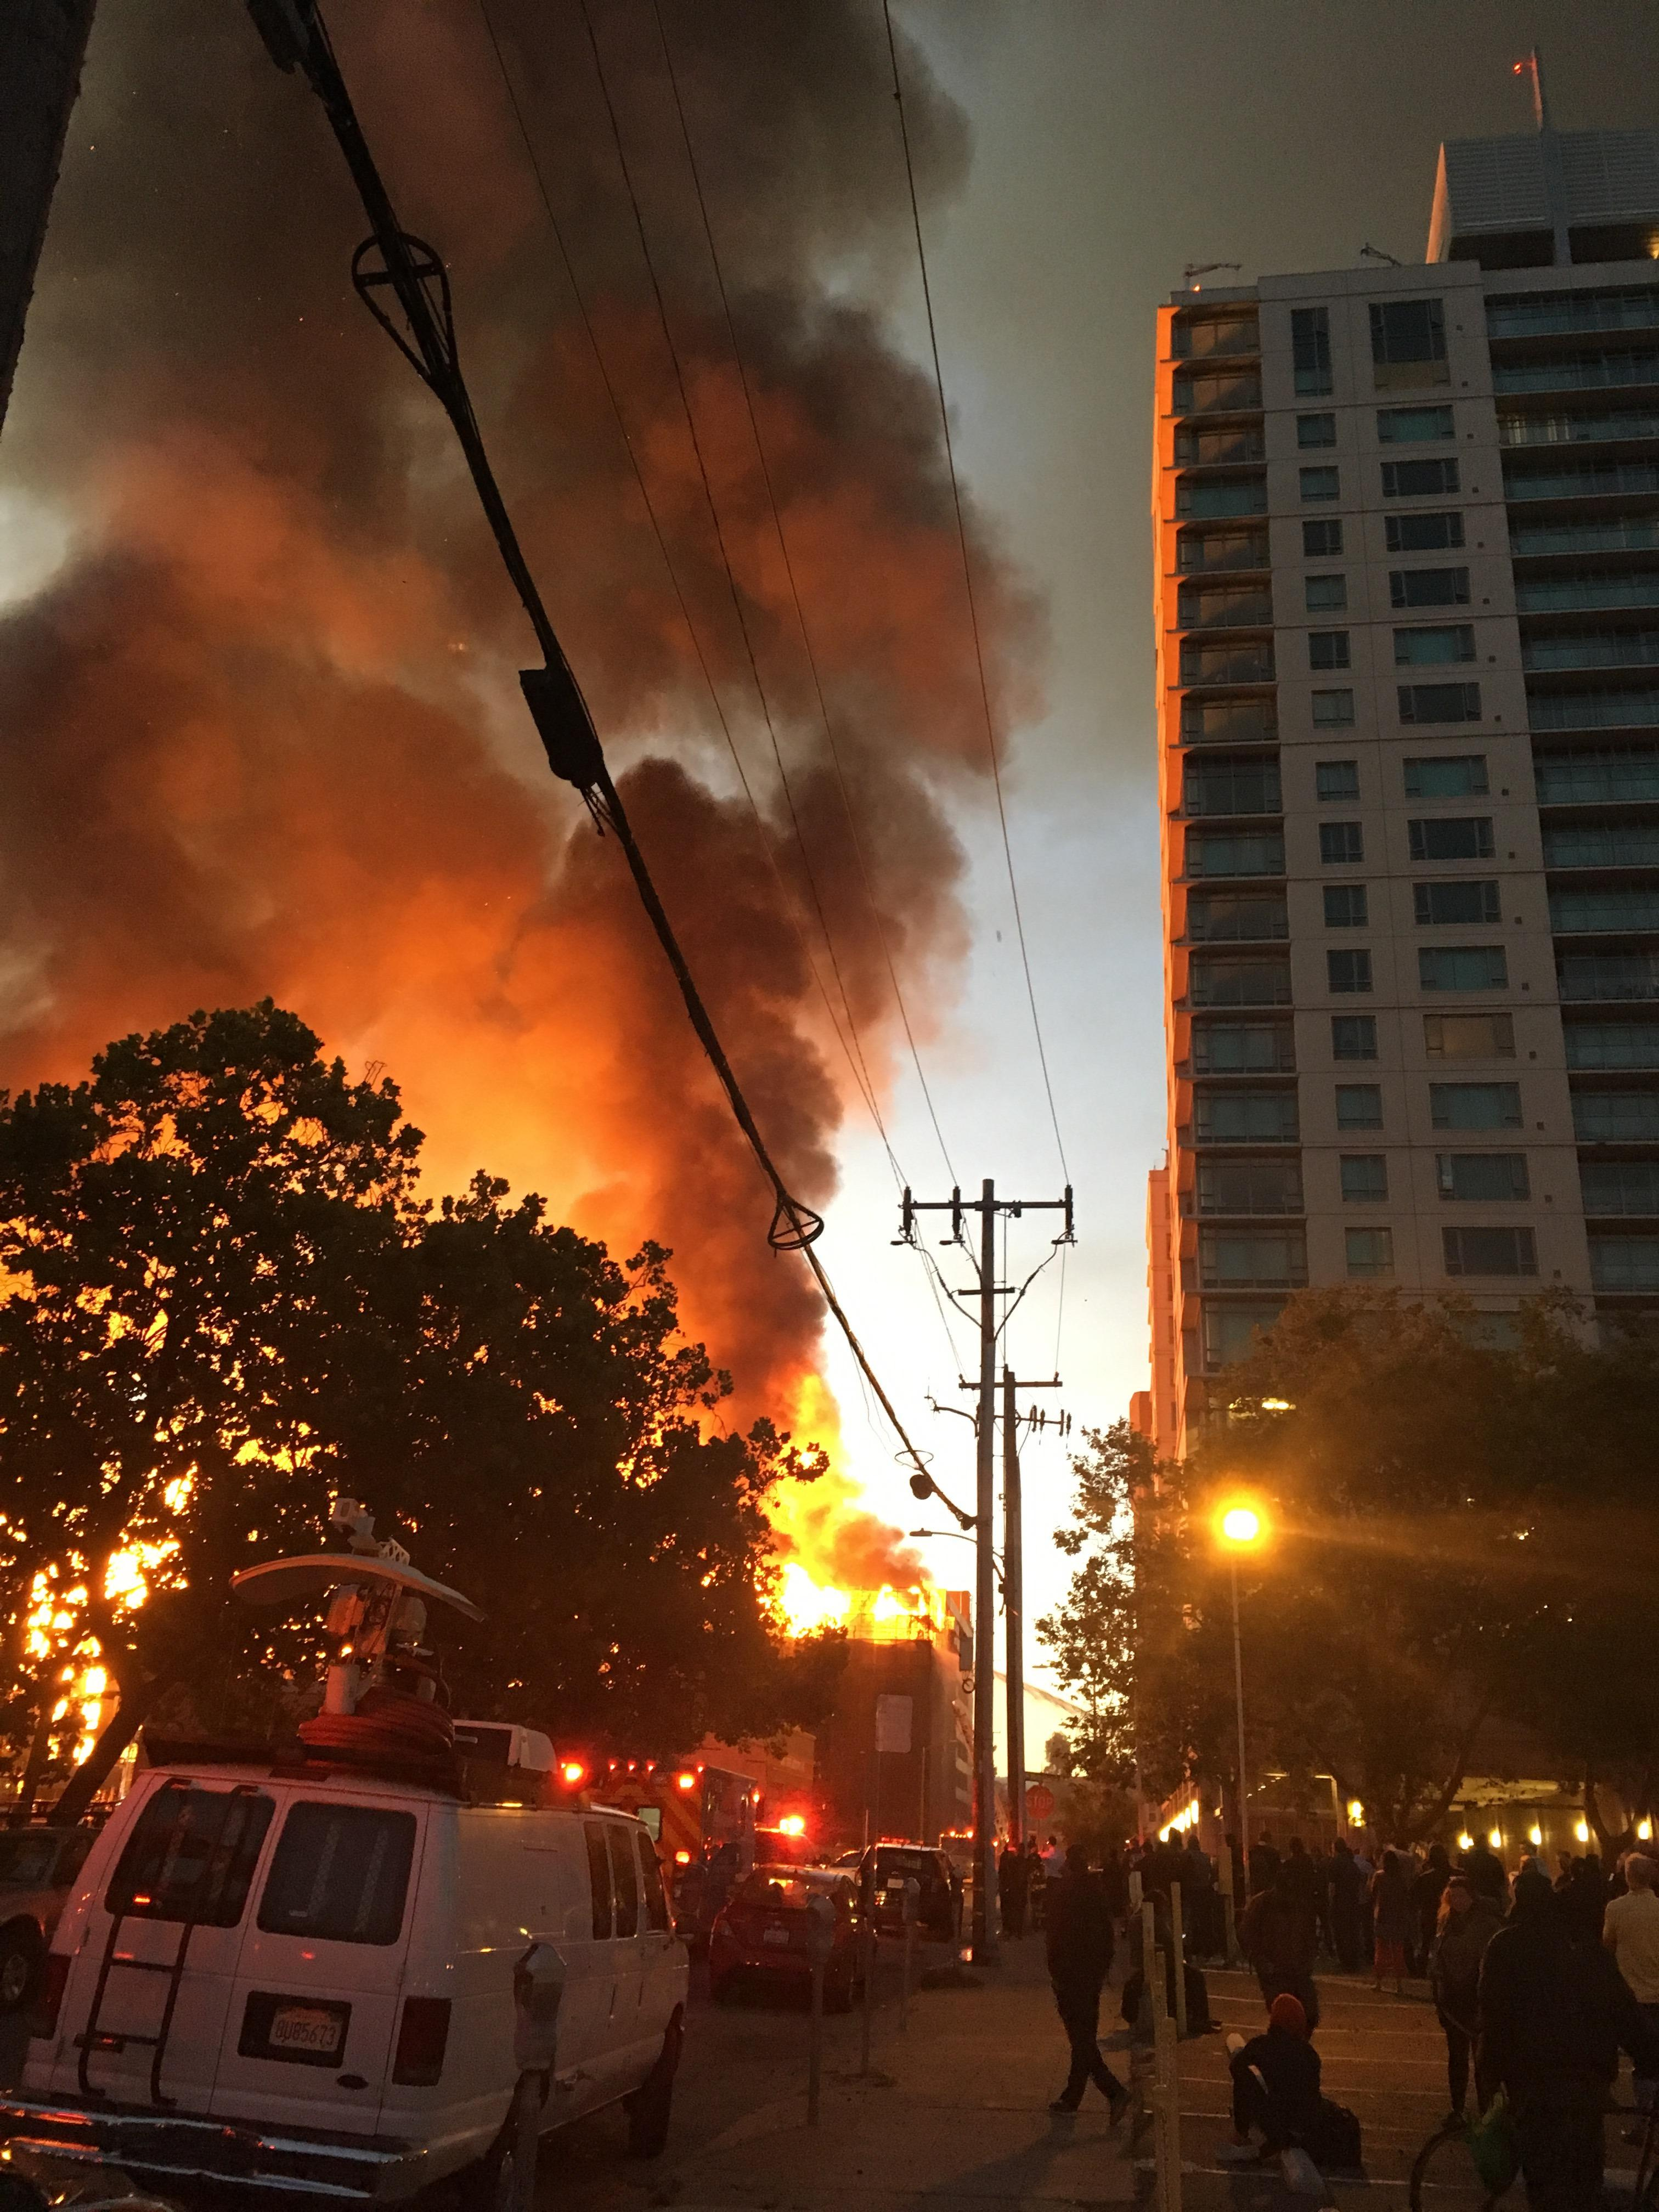Fire: (2, 1252, 896, 1794)
